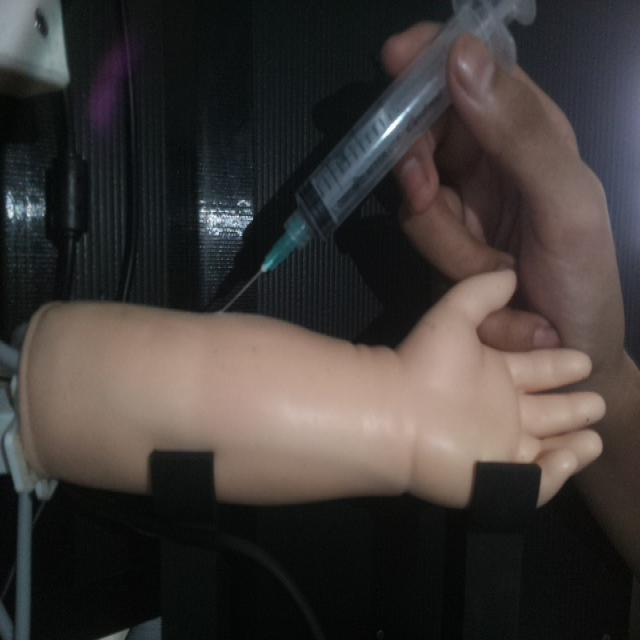Above 30 degrees: (212, 0, 537, 313)
